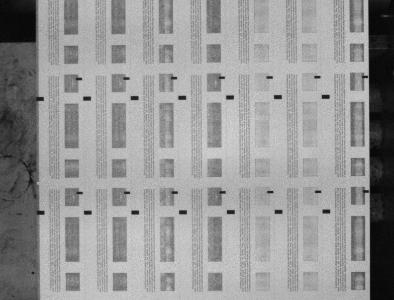backgroundclutter: (31, 271, 35, 274), (37, 182, 40, 185)
qblock: (178, 95, 187, 100), (37, 210, 45, 215), (36, 96, 44, 101), (322, 94, 330, 99), (84, 210, 92, 214), (131, 210, 139, 214), (275, 210, 283, 214), (131, 96, 139, 100), (179, 210, 187, 214), (83, 96, 91, 100), (323, 209, 331, 213), (274, 95, 282, 99), (227, 210, 235, 214), (227, 95, 234, 99)
smallqblock: (171, 76, 178, 80), (220, 190, 226, 194), (267, 190, 274, 193), (363, 190, 370, 193), (315, 190, 322, 193), (76, 191, 83, 194), (219, 76, 226, 79), (363, 75, 369, 78), (124, 191, 130, 194), (172, 191, 178, 194), (124, 77, 130, 80), (315, 76, 321, 79), (267, 76, 273, 79), (76, 77, 82, 80)
